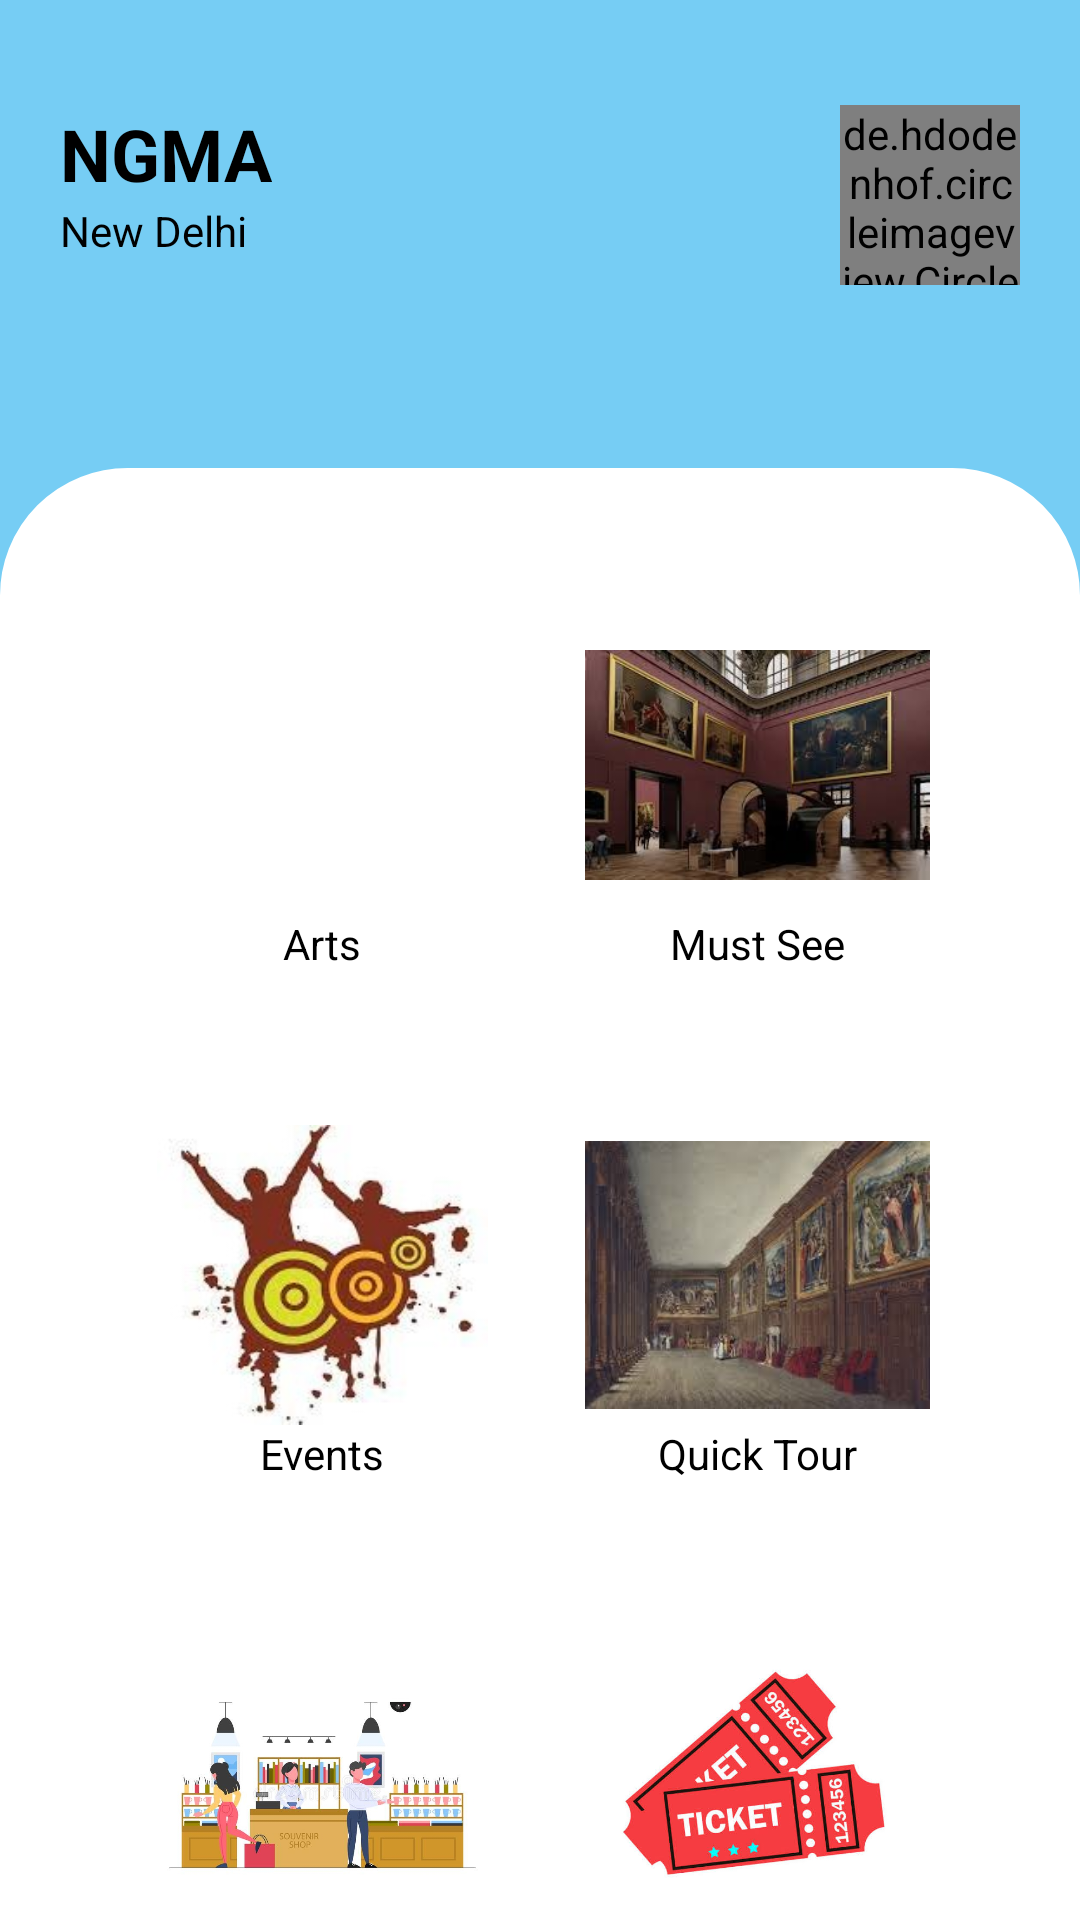

Icons on this 1080×1920 Android screen, each with its box as (x1, y1, x2, y2):
shops: (169, 1702, 476, 1869)
tickets: (623, 1672, 885, 1875)
